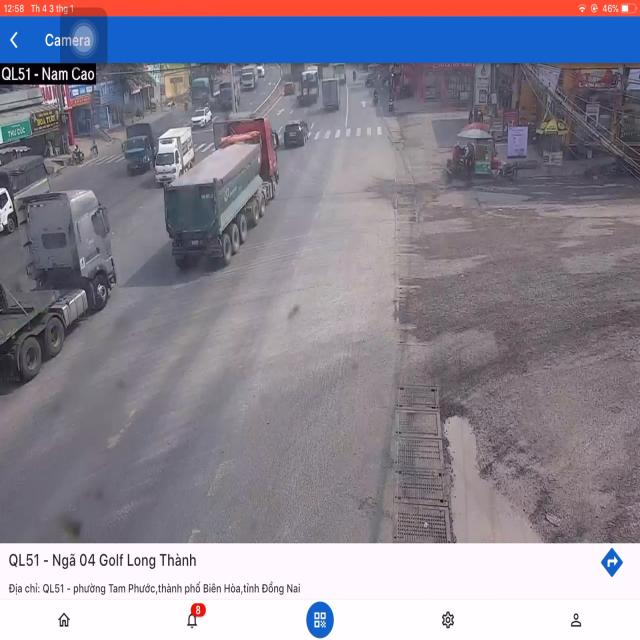car: (285, 118, 312, 152)
truck: (0, 182, 114, 422), (165, 122, 278, 275), (0, 158, 51, 230), (158, 122, 198, 180), (128, 122, 156, 172)
